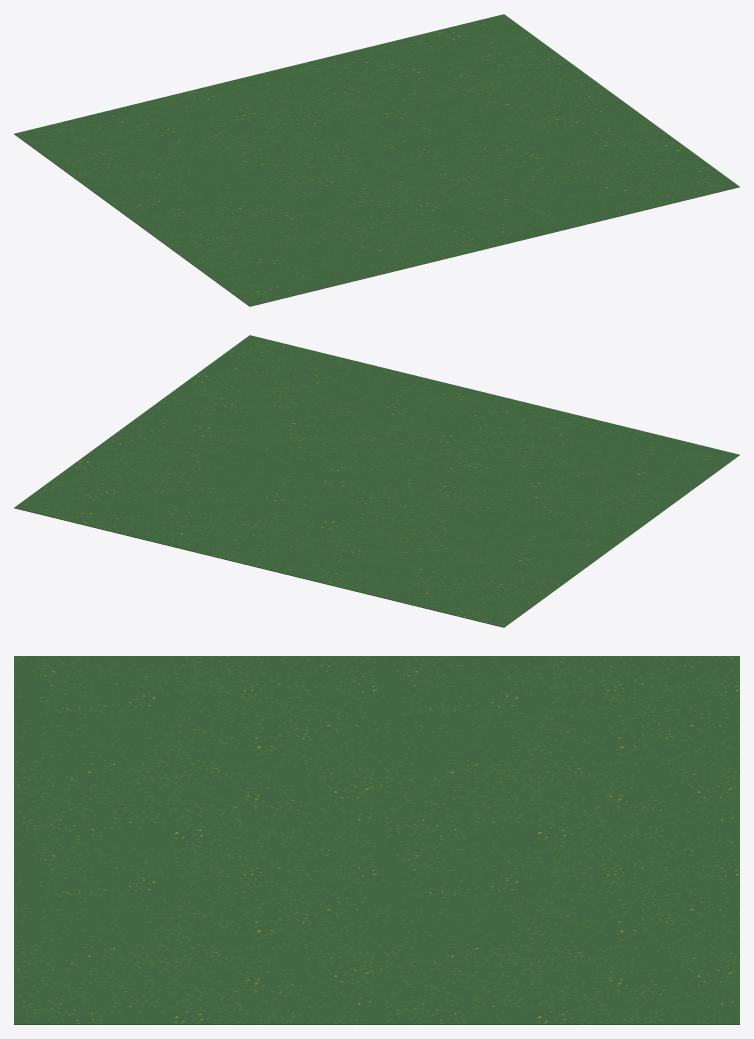
Rendered from FloorBaseGrass_01.glb.
3 renders of one model, top to bottom at view 1: azimuth 30°, elevation 25°; view 2: azimuth 150°, elevation 25°; view 3: azimuth 270°, elevation 25°, orthographic. The views are drawn at different scales.
Parts seen in each view (by area): view 1: FloorBaseGrass_01; view 2: FloorBaseGrass_01; view 3: FloorBaseGrass_01.
Boxes of the visible parts, x1,y1,x2,y2 form: FloorBaseGrass_01: (14,14,739,306); FloorBaseGrass_01: (14,335,739,627); FloorBaseGrass_01: (14,656,739,1024).
Size of the model in its own units: 19.2 by 0.0191 by 16.
Materials: 1 (1 with a texture image).
